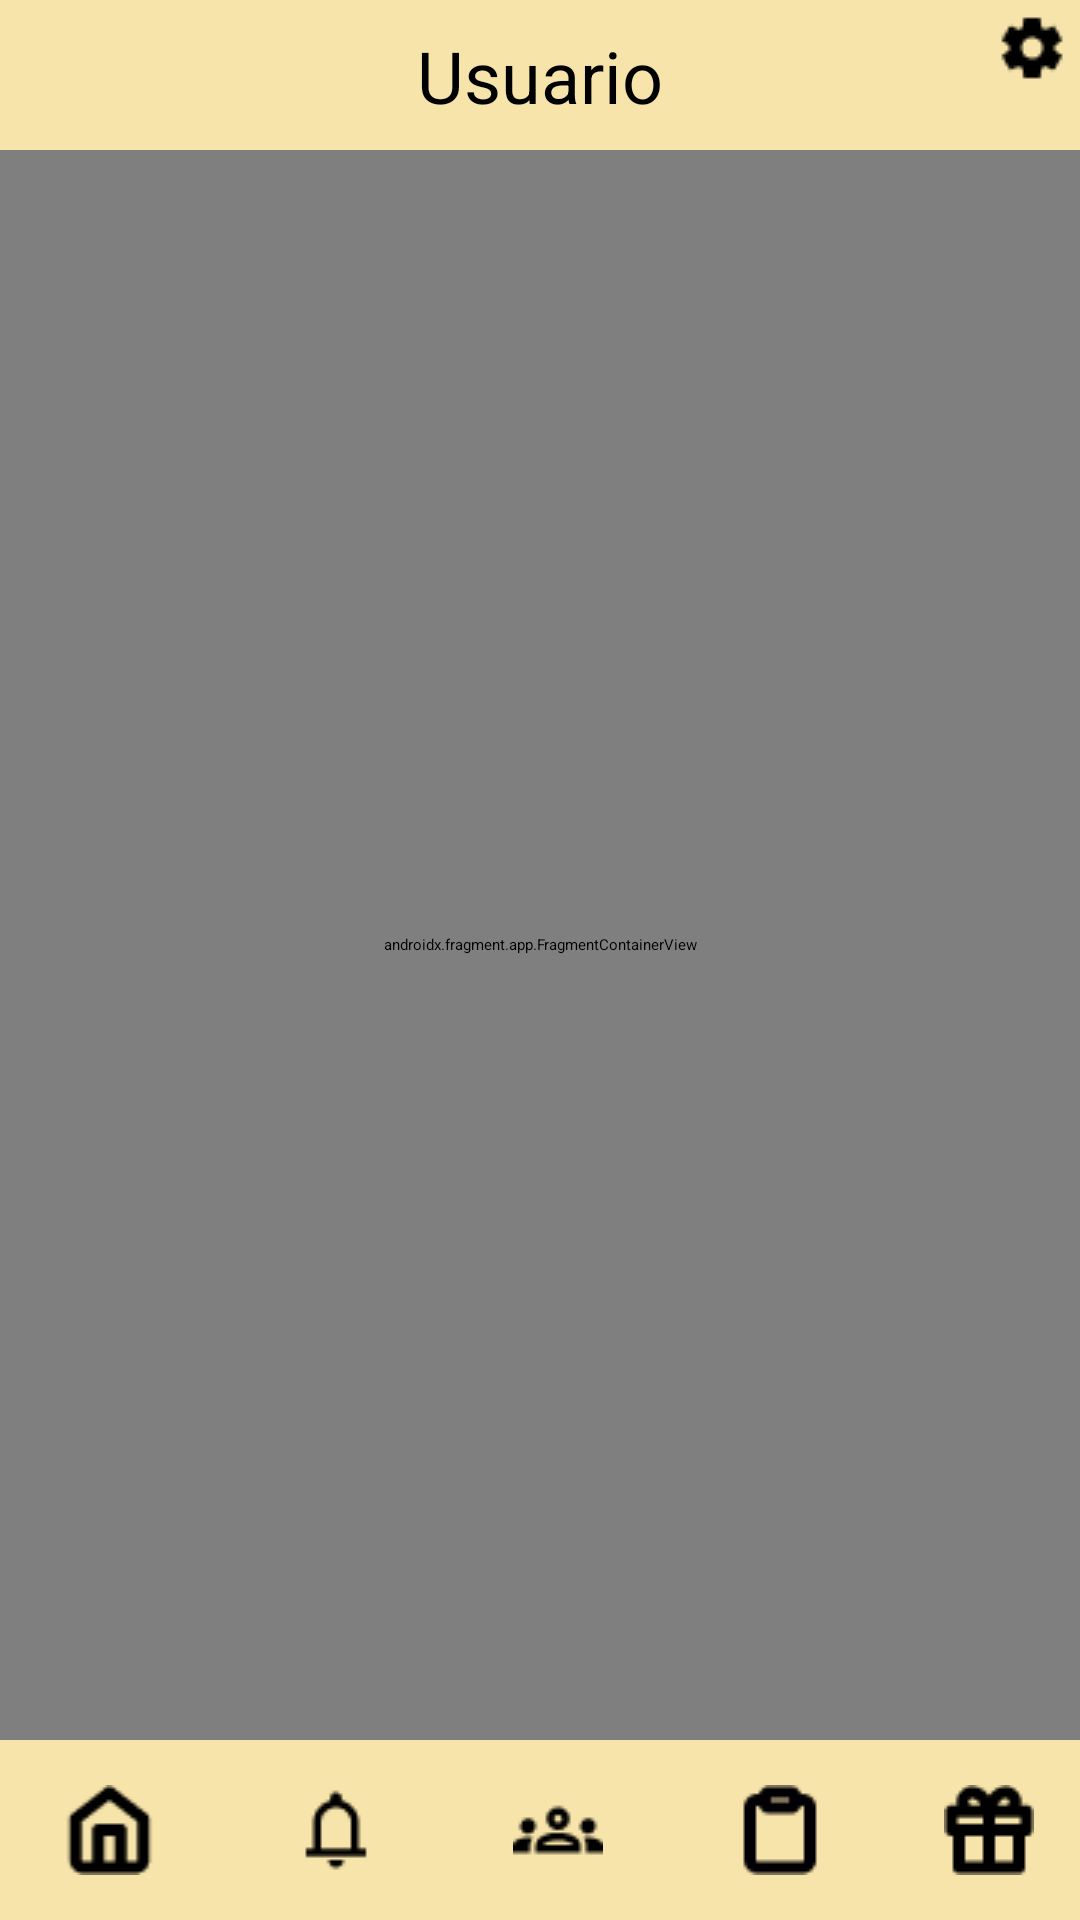

Icons on this 1080w x 1920h Android screen, each with its box as (x1, y1, x2, y2):
ajustes: (1001, 17, 1063, 79)
grupos: (513, 1805, 603, 1855)
home adolescentes: (67, 1785, 152, 1875)
notifications: (305, 1790, 367, 1870)
regalo: (944, 1785, 1034, 1875)
tarea: (743, 1785, 817, 1875)
